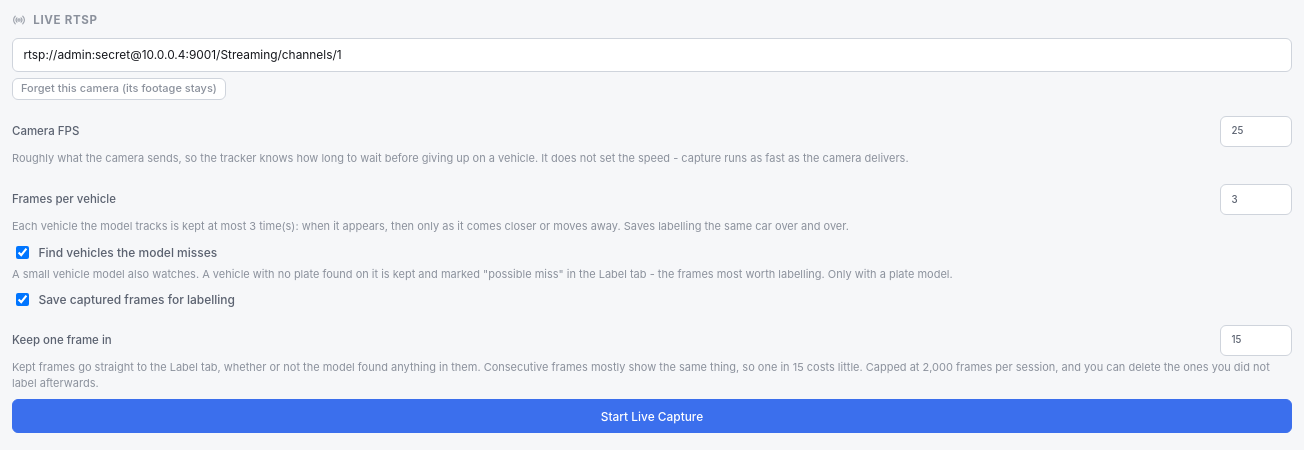
Test: Starting a camera you have started before › can forget a camera, and says the footage stays
This screenshot has width=1304, height=450.
Click the button "Forget this camera (its footage stays)": point(119, 89) [12,78,226,100]
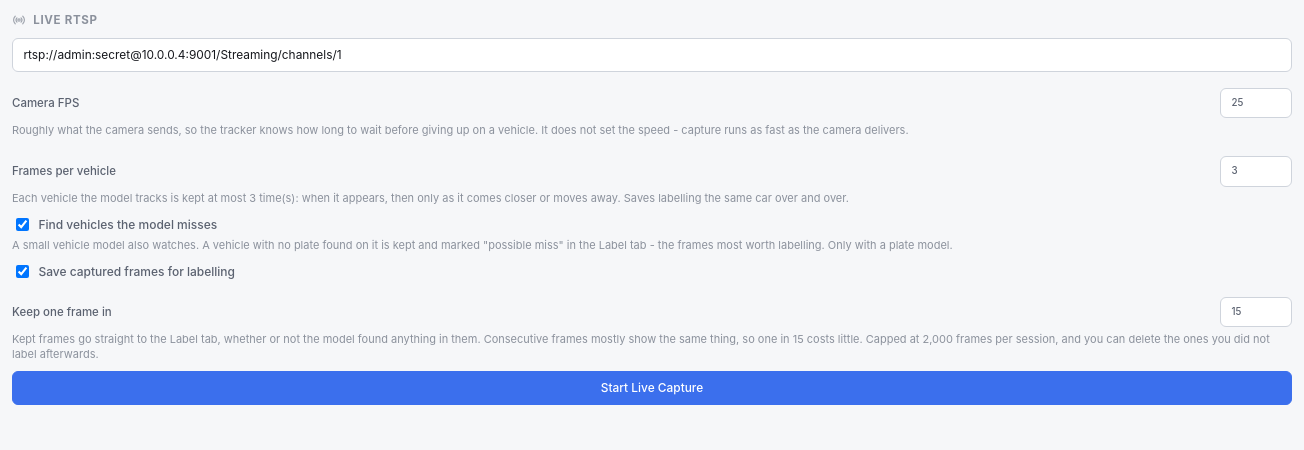
Check: the button "Forget this camera" is gone
